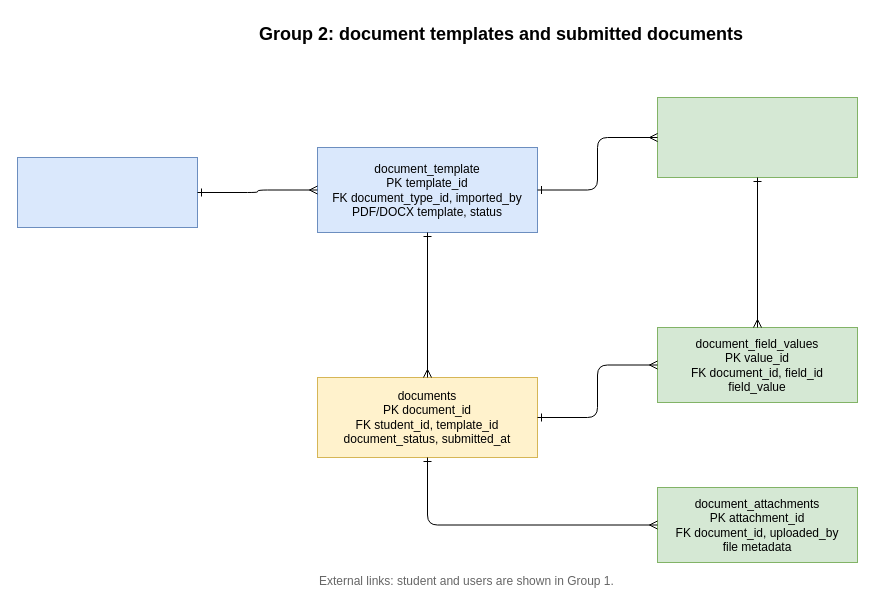
This 875x609 diagram has some shape labels left out. Each missing label, with the box of its shape:
document_type PK document_type_id document_code, name: (16, 156, 198, 228)
template_fields PK field_id FK template_id field name, coordinates, size: (656, 96, 858, 178)
